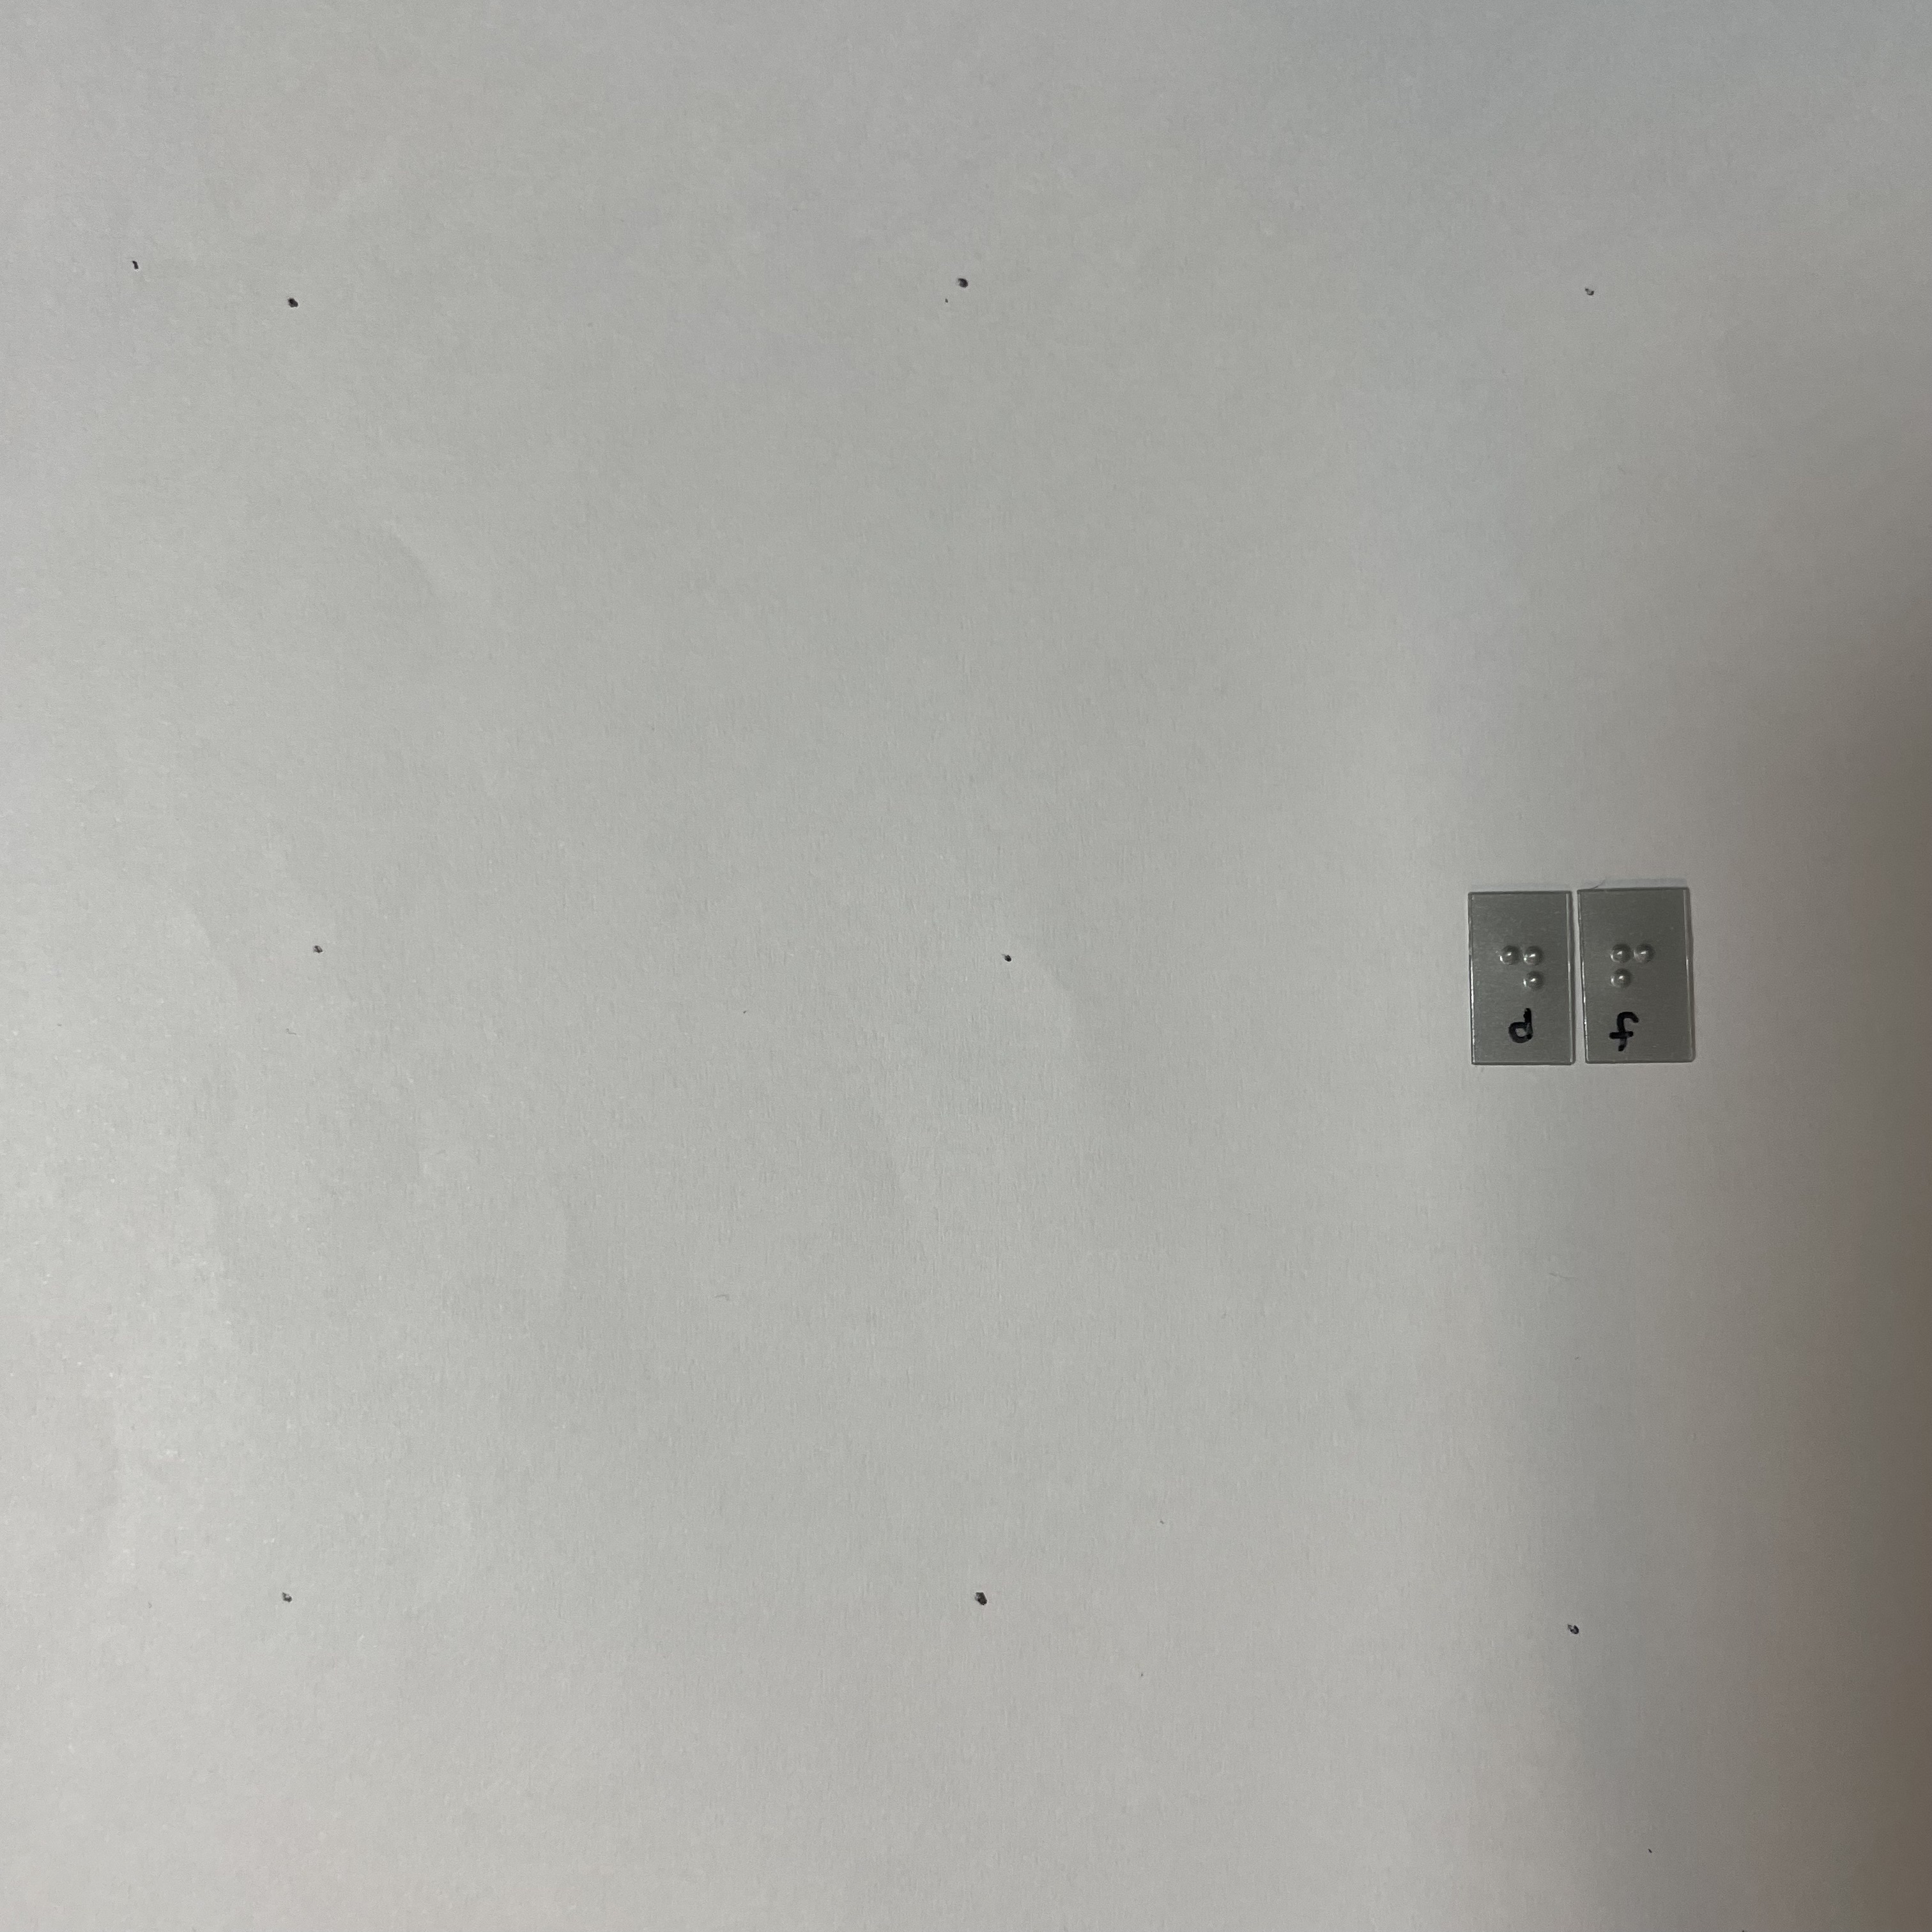d: (1490, 931, 1551, 1013)
f: (1604, 927, 1659, 1002)
